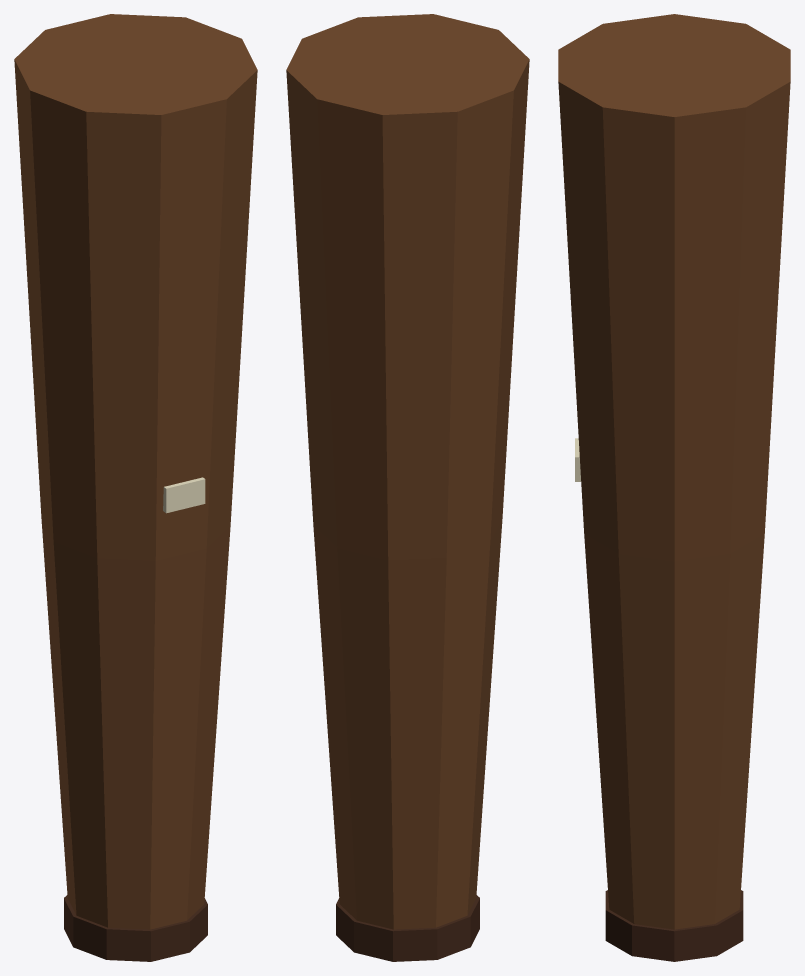
Rendered from gear_hard_chaps_leg_r.glb.
3 renders of one model, left to right at view 1: azimuth 30°, elevation 25°; view 2: azimuth 150°, elevation 25°; view 3: azimuth 270°, elevation 25°, orthographic.
Visible parts, largest first — view 1: gear_hard_chaps_leg_r; view 2: gear_hard_chaps_leg_r; view 3: gear_hard_chaps_leg_r.
Part boxes in pixels (x1,y1,x2,y2): gear_hard_chaps_leg_r: (14,14,257,961); gear_hard_chaps_leg_r: (286,14,529,961); gear_hard_chaps_leg_r: (558,14,790,961).
Bounding box in the file's own units: 0.216 × 0.845 × 0.2054.
